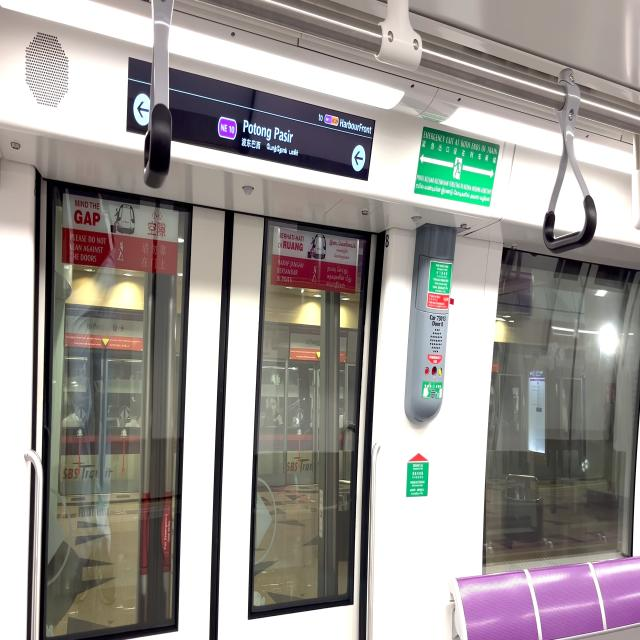bus-door: (37, 172, 372, 640)
